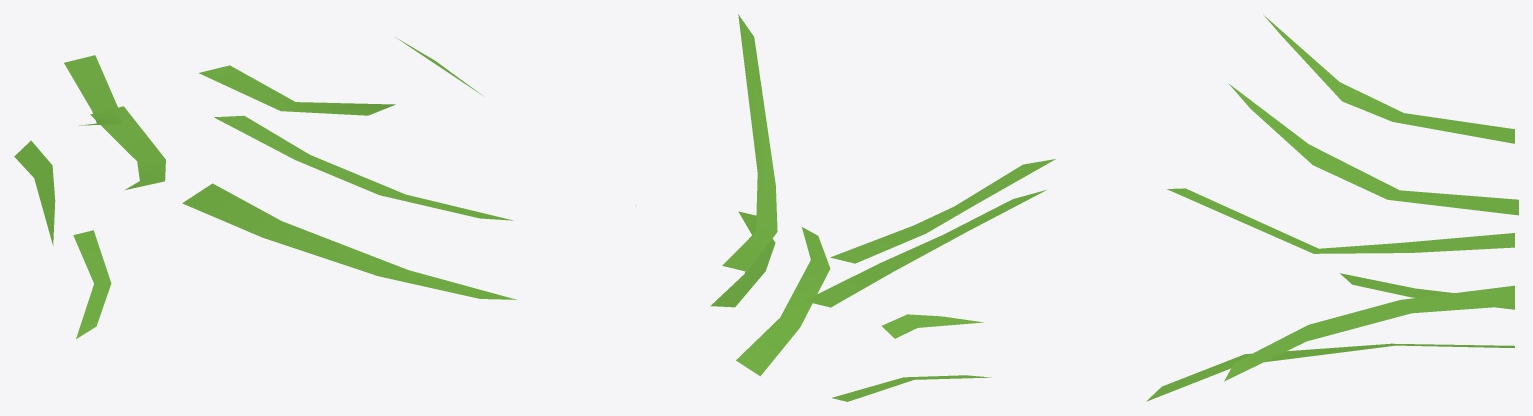
Rendered from quaternius-grass.glb.
3 renders of one model, left to right at view 1: azimuth 30°, elevation 25°; view 2: azimuth 150°, elevation 25°; view 3: azimuth 270°, elevation 25°, orthographic. The views are drawn at different scales.
Visible parts, largest first — view 1: Grass_Small; view 2: Grass_Small; view 3: Grass_Small.
Boxes of the visible parts, left/top/right/bottom form: Grass_Small: left=14, top=37, right=516, bottom=338; Grass_Small: left=710, top=14, right=1055, bottom=401; Grass_Small: left=1146, top=14, right=1518, bottom=401.
Size of the model in its own units: 47 by 27.75 by 39.41.
